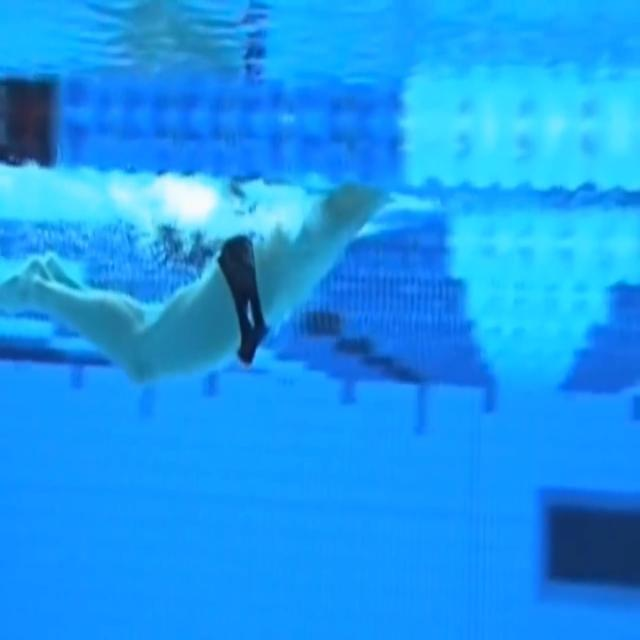Swimming: (1, 180, 394, 383)
